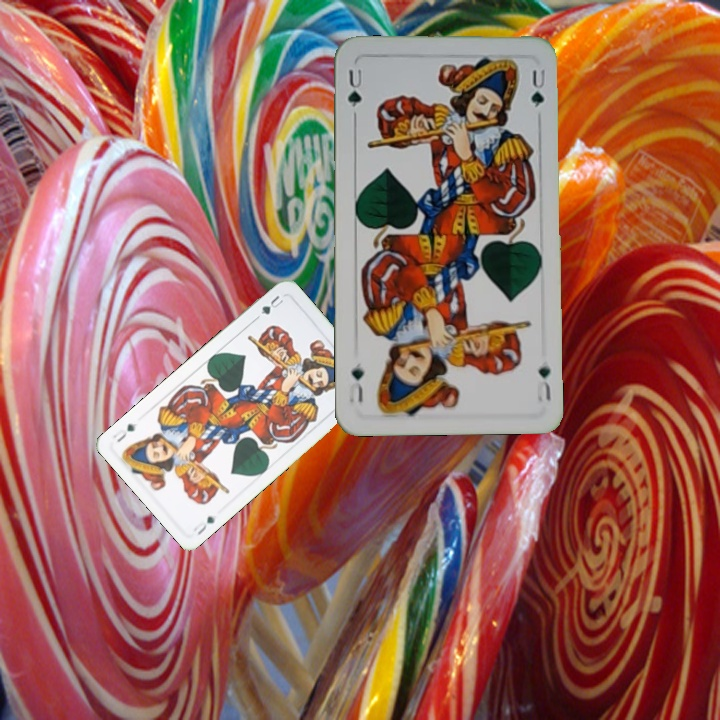GU: (344, 64, 365, 110), (533, 361, 554, 404), (257, 291, 286, 317), (189, 512, 218, 538)
